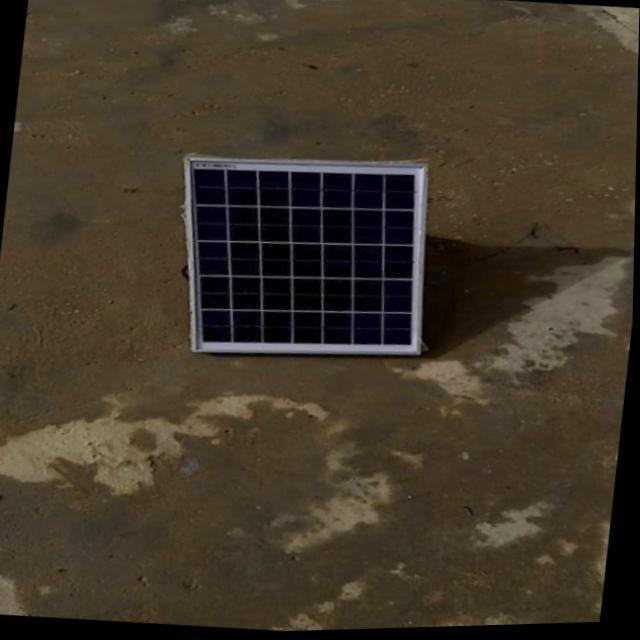Normal Solar Panel: (164, 146, 445, 374)
